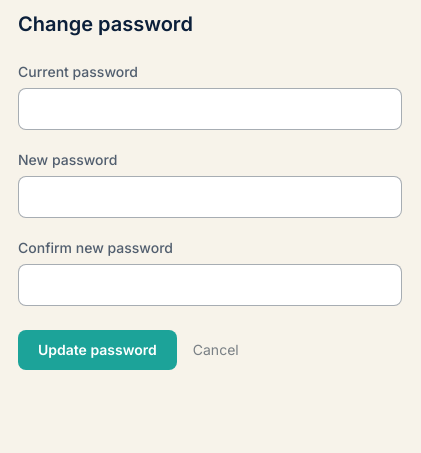
Test: ChangePasswordPage › shows Supabase error message when updateUser fails
This screenshot has width=421, height=453.
Type "oldpass" into the password field labelled "Current password" at (210, 109), box [18, 88, 402, 130]
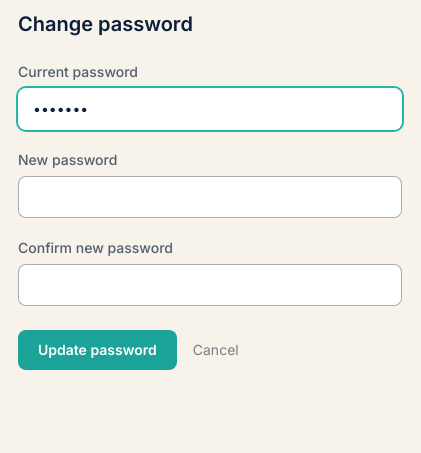
Type "newpass123" into the password field labelled "New password" at (210, 197), box [18, 176, 402, 218]
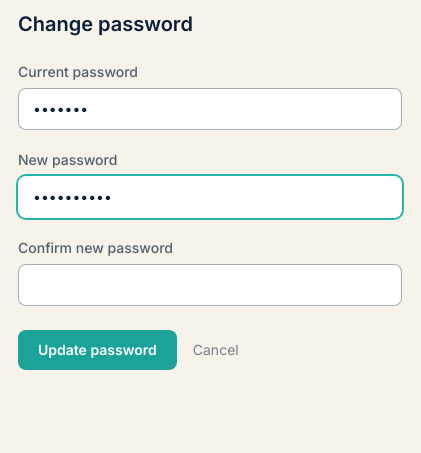
Type "newpass123" into the password field labelled "Confirm new password" at (210, 285), box [18, 264, 402, 306]
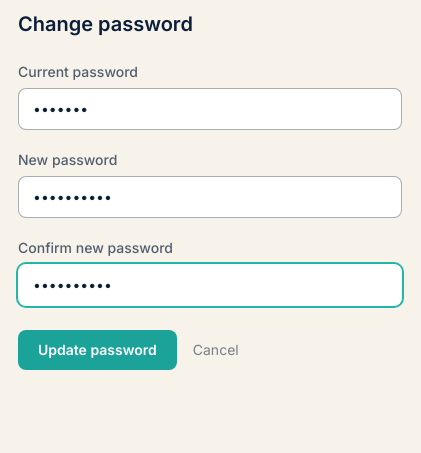
Click the button "Update password" at (97, 350), box [18, 330, 177, 370]
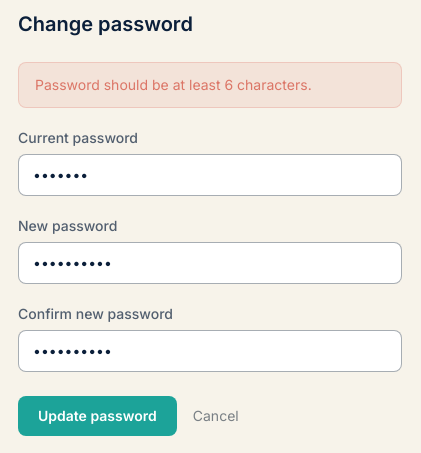
Expected: the message reads "Password should be at least 6 characters.", [35, 76, 312, 93]
